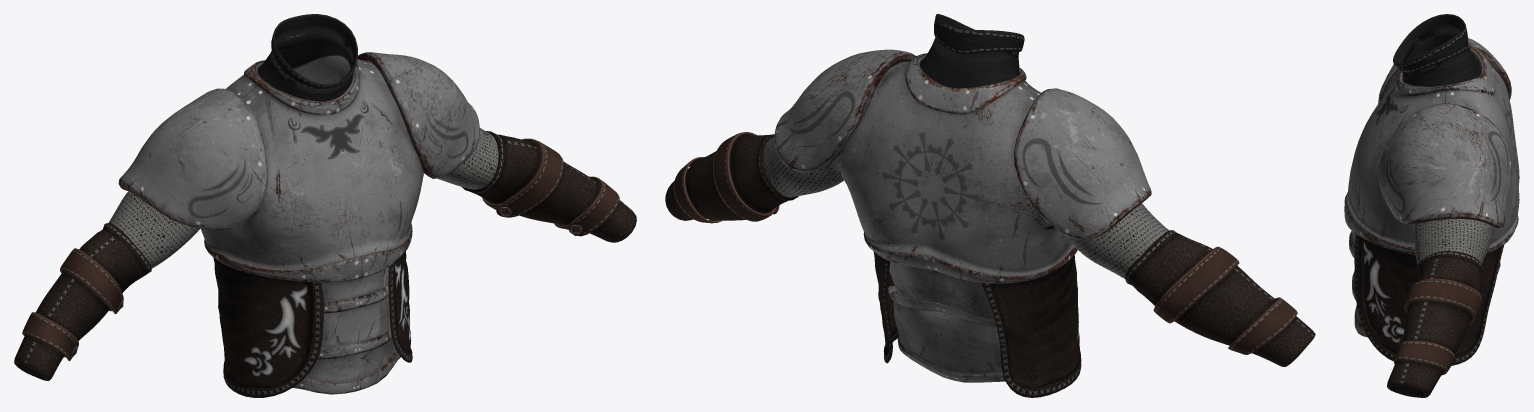
The model's file is male_armour_-_game_ready.glb.
The picture shows the model from 3 angles, left to right: view 1: azimuth 30°, elevation 25°; view 2: azimuth 150°, elevation 25°; view 3: azimuth 270°, elevation 25°; orthographic projection. The views are drawn at different scales.
Visible parts, largest first — view 1: Extract4_3, Chest Armour, LetherCloth, Belly Armour; view 2: Extract4_3, Chest Armour, LetherCloth, Belly Armour; view 3: Extract4_3, LetherCloth, Chest Armour, Belly Armour.
Part boxes in pixels (x1,y1,x2,y2): Extract4_3: (14,52,636,380); Chest Armour: (201,55,423,282); LetherCloth: (213,14,412,397); Belly Armour: (258,201,400,394); Extract4_3: (665,49,1315,366); Chest Armour: (840,53,1077,283); LetherCloth: (873,14,1081,397); Belly Armour: (888,224,1051,382); Extract4_3: (1378,38,1511,397); LetherCloth: (1354,14,1503,365); Chest Armour: (1344,46,1519,254); Belly Armour: (1349,231,1500,337).
Bounding box in the file's own units: 1.96 × 1.03 × 0.5349.
4 materials, 4 textured.
